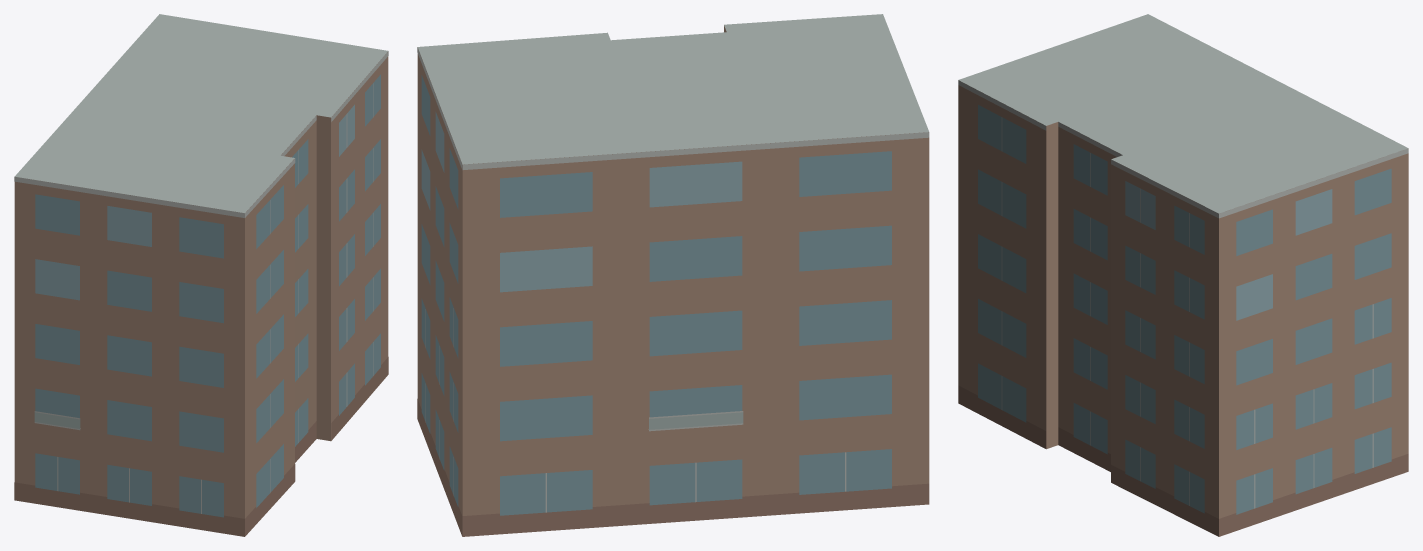
File: survey-upis-32613343.glb
3 views of the same model, side by side, from view 1: azimuth 30°, elevation 25°; view 2: azimuth 150°, elevation 25°; view 3: azimuth 270°, elevation 25° (orthographic). The views are drawn at different scales.
Visible parts, largest first — view 1: survey-upis-32613343.tmp; view 2: survey-upis-32613343.tmp; view 3: survey-upis-32613343.tmp.
Part boxes in pixels (box(x1,y1,x2,y2)): survey-upis-32613343.tmp: box(14, 14, 388, 536); survey-upis-32613343.tmp: box(417, 14, 929, 536); survey-upis-32613343.tmp: box(958, 14, 1408, 536).
Bounding box in the file's own units: 21.19 × 16 × 20.21.
